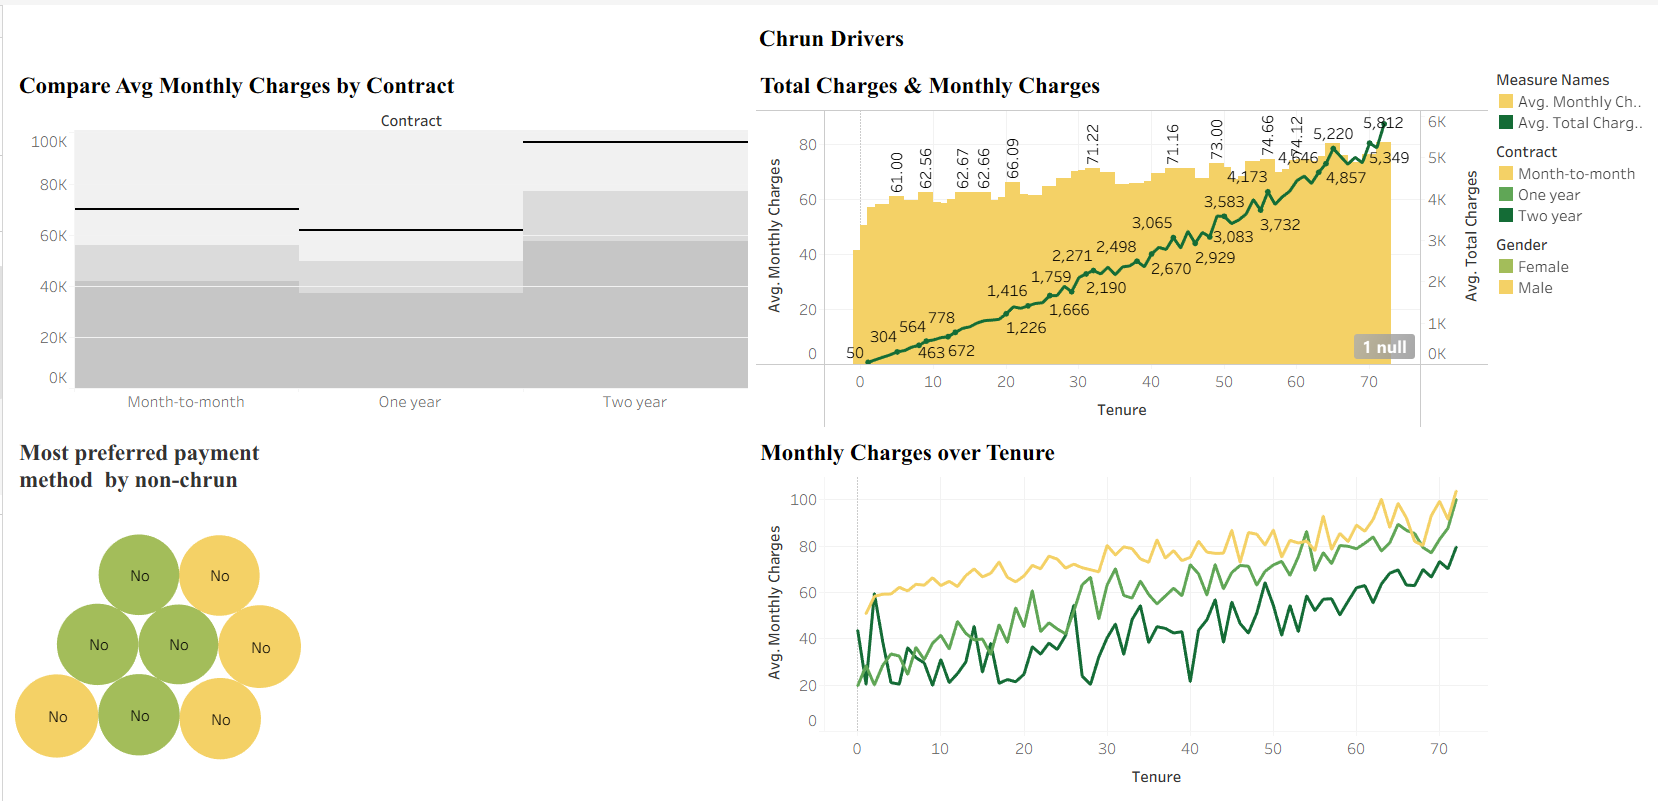

Layout of this report page (visuals, bound fields, positions):
{"tool":"tableau","page":{"name":"Churn Drivers","canvas":[1000,1000],"units":"permille","ordinal":1},"visuals":[{"type":"text","box":[4.8,10,990.3,64.9]},{"type":"worksheet","title":"Q10","mark":"Automatic","rows":["MonthlyCharges"],"cols":["Contract"],"box":[4.8,74.9,446.9,457.6]},{"type":"worksheet","title":"Q9","mark":"Automatic","rows":["MonthlyCharges","TotalCharges"],"cols":["tenure"],"box":[451.7,74.9,446.9,457.6]},{"type":"legend","title":"Q9","param":"[federated.0qba2vc0a2q61f15rh6xe1evlxum].[:Measure Names]","box":[898.6,74.9,96.6,89.9]},{"type":"legend","title":"Q10","param":"[federated.0qba2vc0a2q61f15rh6xe1evlxum].[none:Contract:nk]","box":[898.6,164.8,96.6,116.1]},{"type":"legend","title":"Q5","param":"[federated.0qba2vc0a2q61f15rh6xe1evlxum].[none:gender:nk]","box":[898.6,280.9,96.6,89.9]},{"type":"worksheet","title":"Q5","mark":"Circle","box":[4.8,532.5,446.9,451.9]},{"type":"worksheet","title":"Q7","mark":"Automatic","rows":["MonthlyCharges"],"cols":["tenure"],"box":[451.7,532.5,446.9,457.5]}]}

Visuals, with their boxes on the dashboard's canvas, which has no fixed pixel size, in thousandths of its width and height (x1, y1, x2, y2). These are canvas units, not pixel positions in the 1658x801 screenshot, which may show the page scaled, cropped or inside an application window:
text: l=5, t=10, r=995, b=75
"Q10" worksheet: l=5, t=75, r=452, b=532
"Q9" worksheet: l=452, t=75, r=899, b=532
"Q9" legend: l=899, t=75, r=995, b=165
"Q10" legend: l=899, t=165, r=995, b=281
"Q5" legend: l=899, t=281, r=995, b=371
"Q5" worksheet (Circle marks): l=5, t=532, r=452, b=984
"Q7" worksheet: l=452, t=532, r=899, b=990
